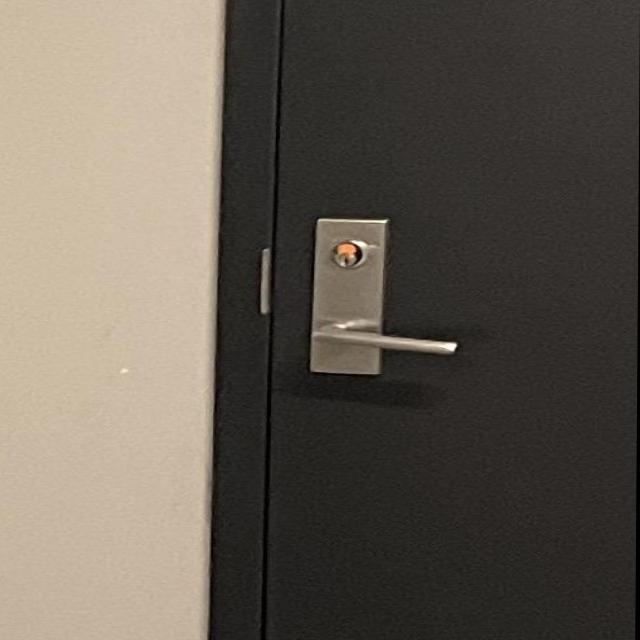door_handle: (285, 301, 476, 366)
